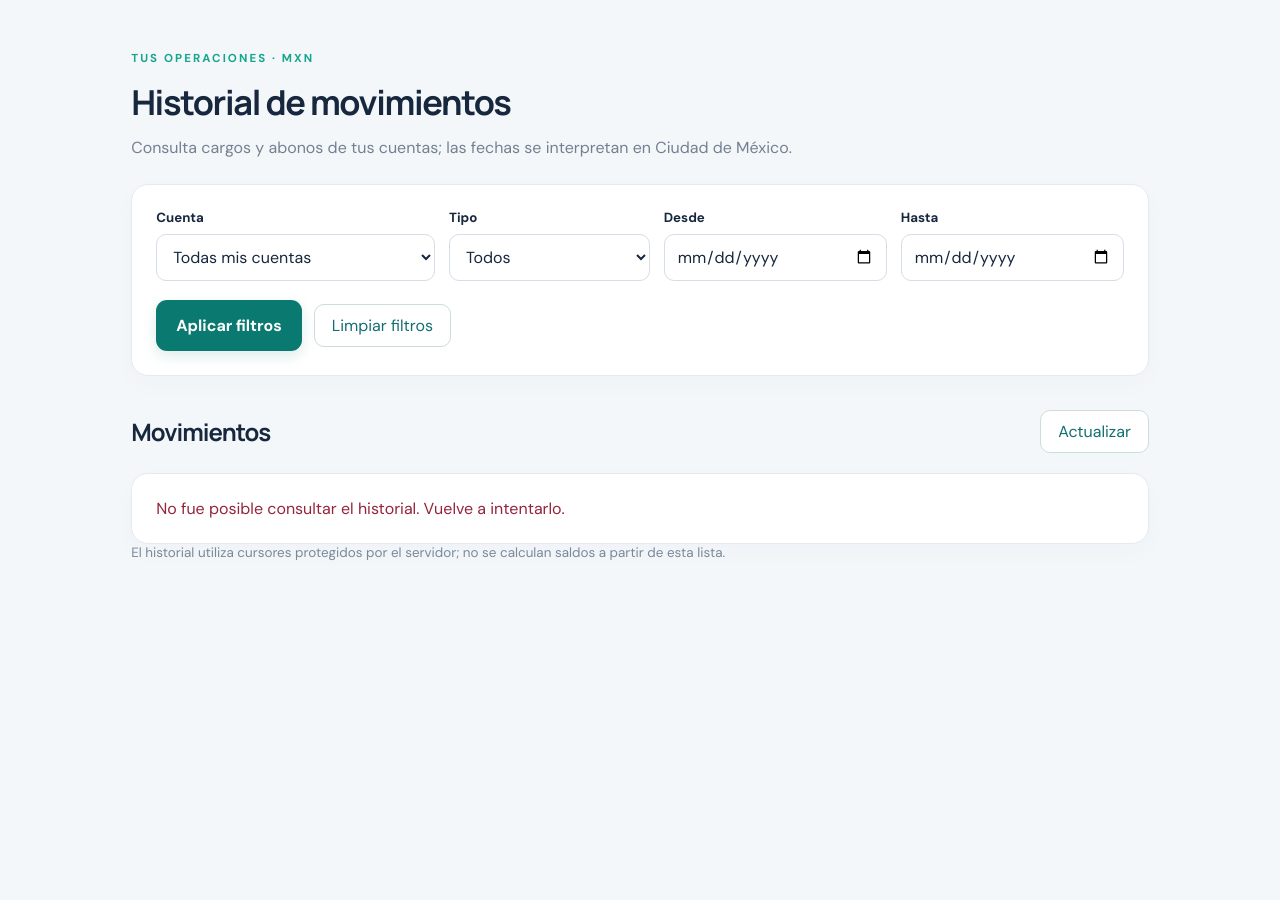
Test: T-24 historial web con filtros y paginación por cursor › muestra error del servidor y permite actualizar para recuperarse
Expected: the message shows "No fue posible consultar el historial.", x1=156 y1=498 x2=565 y2=519
Click the button "Actualizar" at [1094, 431], box x1=1040 y1=410 x2=1149 y2=453
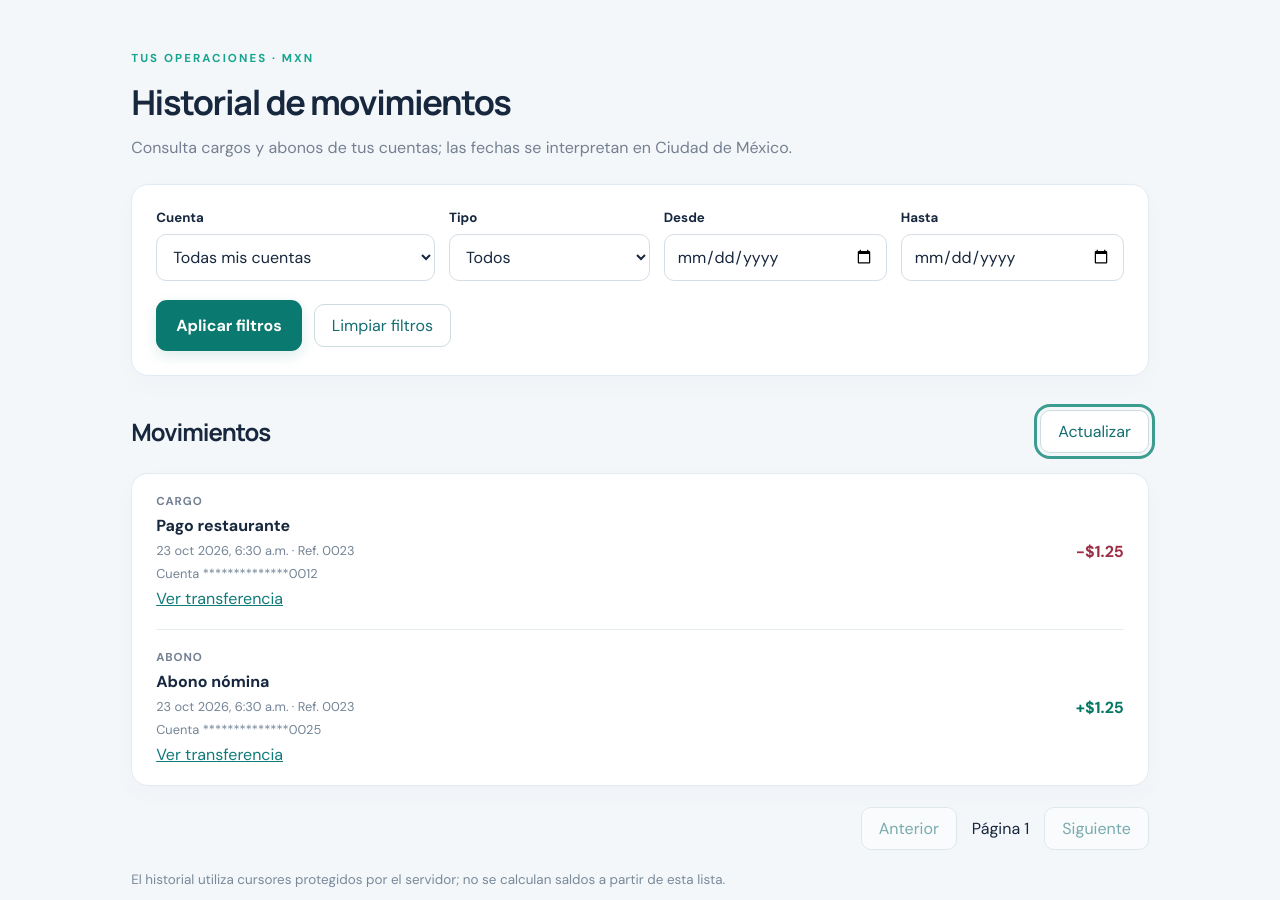
Result: the text "Pago restaurante" is shown at x1=156 y1=515 x2=290 y2=536
